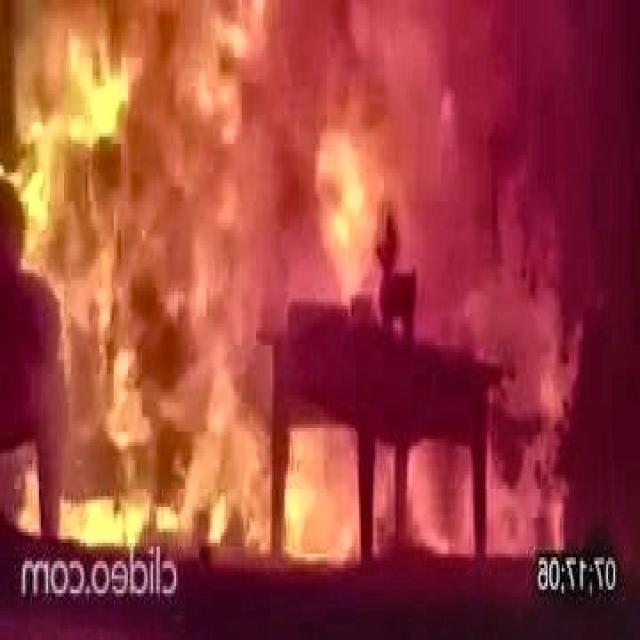fire: (14, 0, 604, 525)
